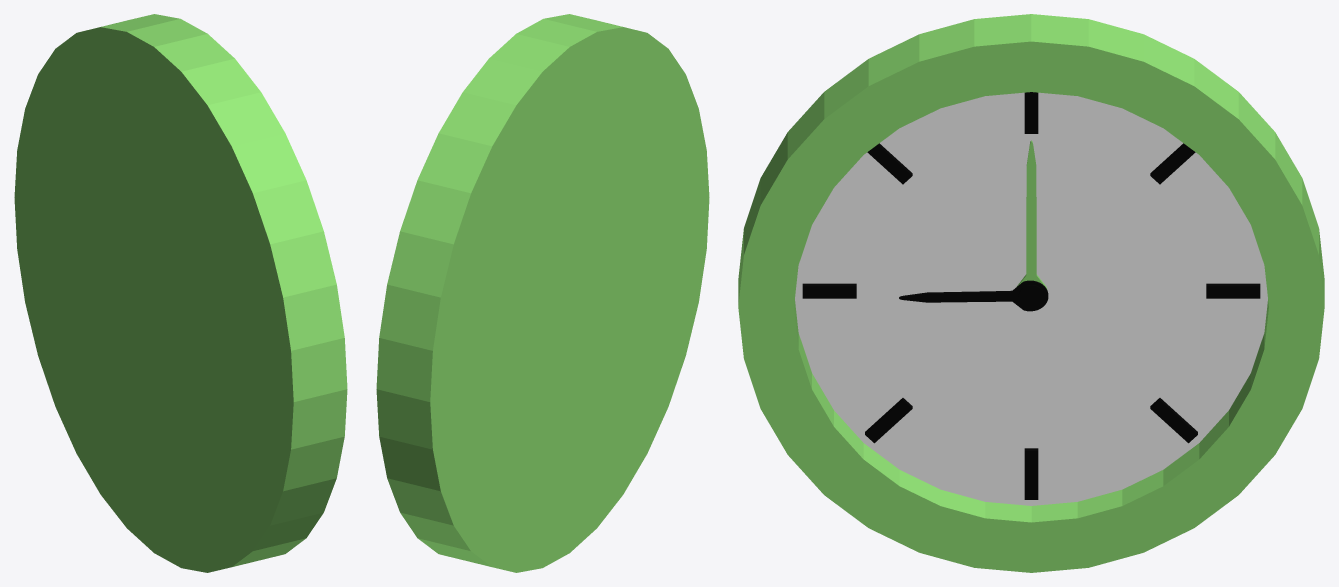
3 views of the same model, side by side, from view 1: azimuth 30°, elevation 25°; view 2: azimuth 150°, elevation 25°; view 3: azimuth 270°, elevation 25° (orthographic). The views are drawn at different scales.
Parts seen in each view (by area): view 1: watches; view 2: watches; view 3: watches, numerous, needles.
Part boxes in pixels (x1,y1,x2,y2): watches: [14, 14, 347, 572]; watches: [376, 14, 709, 572]; watches: [738, 14, 1324, 572]; numerous: [802, 92, 1260, 499]; needles: [899, 140, 1048, 311].
Bounding box in the file's own units: 1 × 9 × 9.
